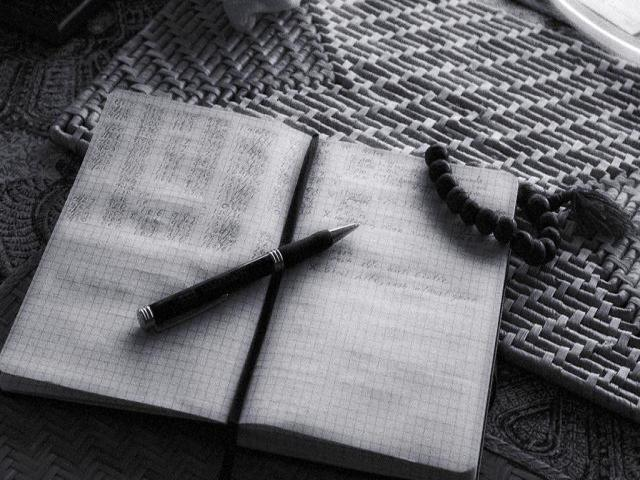PEN: (116, 221, 358, 338)
